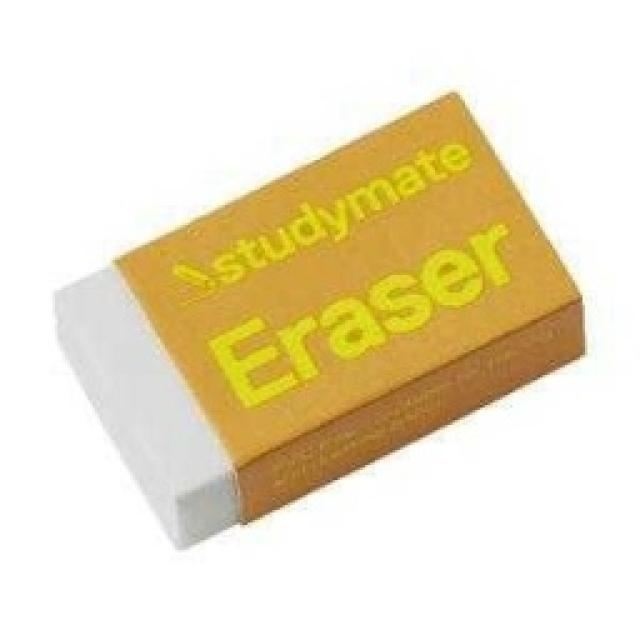Silgi: (38, 94, 592, 553)
